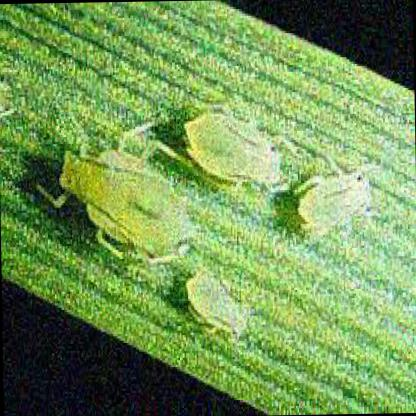schizaphis graminum: (35, 102, 196, 269), (187, 101, 295, 196), (297, 159, 377, 236), (187, 270, 249, 331)
